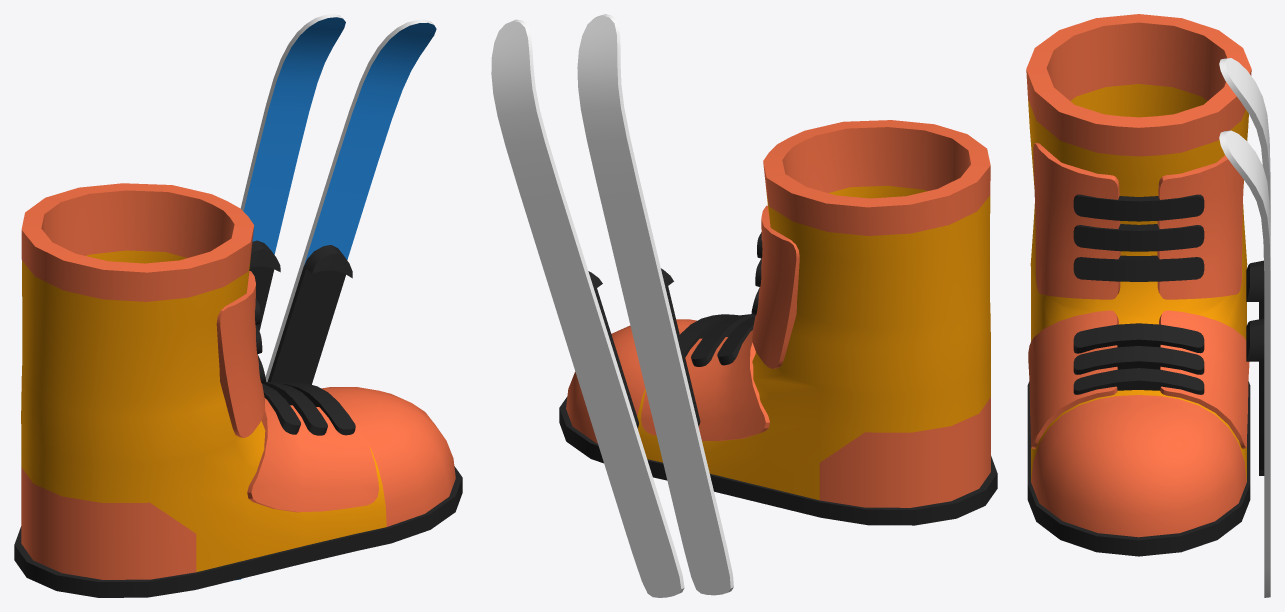
Rendered from skis.glb.
3 views of the same model, side by side, from view 1: azimuth 30°, elevation 25°; view 2: azimuth 150°, elevation 25°; view 3: azimuth 270°, elevation 25° (orthographic). The views are drawn at different scales.
Parts seen in each view (by area): view 1: Sphere.521; view 2: Sphere.521; view 3: Sphere.521.
Part boxes in pixels (box(x1,y1,x2,y2)): Sphere.521: box(14, 14, 462, 597); Sphere.521: box(491, 14, 997, 597); Sphere.521: box(1026, 14, 1270, 597).
Bounding box in the file's own units: 2.14 × 2.54 × 0.9818.
Materials: 1 (1 with a texture image).
